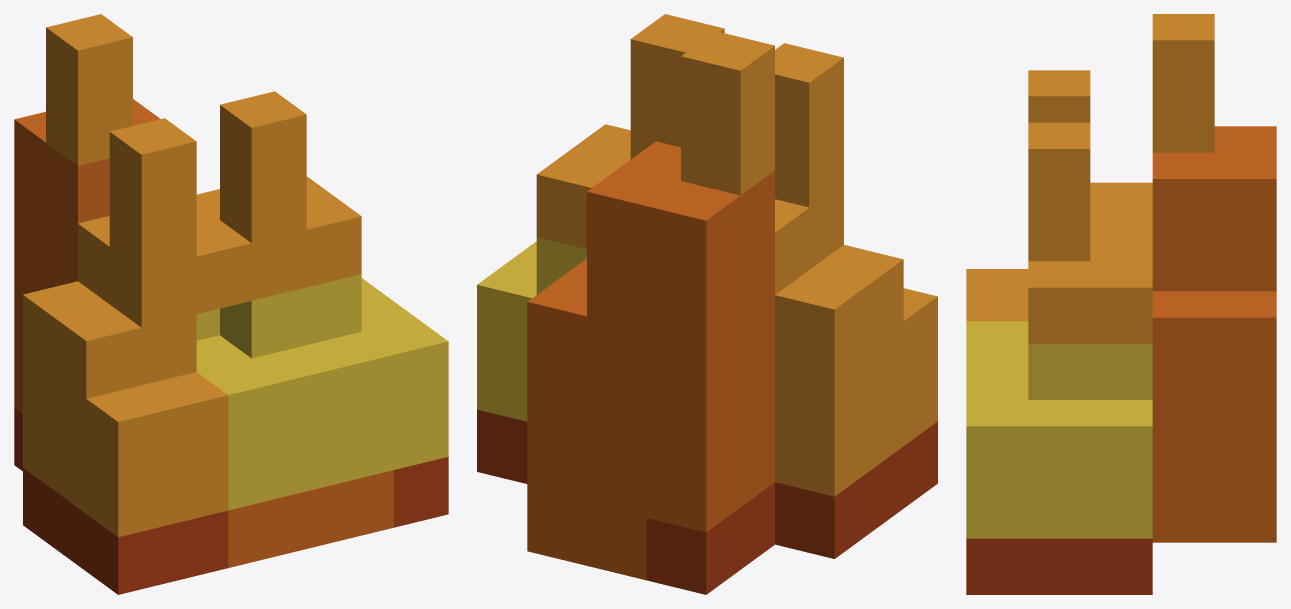
File: flame_09.glb
The picture shows the model from 3 angles, left to right: view 1: azimuth 30°, elevation 25°; view 2: azimuth 150°, elevation 25°; view 3: azimuth 270°, elevation 25°; orthographic projection. The views are drawn at different scales.
Parts seen in each view (by area): view 1: flame_09; view 2: flame_09; view 3: flame_09.
Part boxes in pixels (x1,y1,x2,y2): flame_09: (14, 14, 448, 594); flame_09: (477, 14, 937, 594); flame_09: (966, 14, 1276, 594).
Bounding box in the file's own units: 0.75 × 1 × 0.625.
